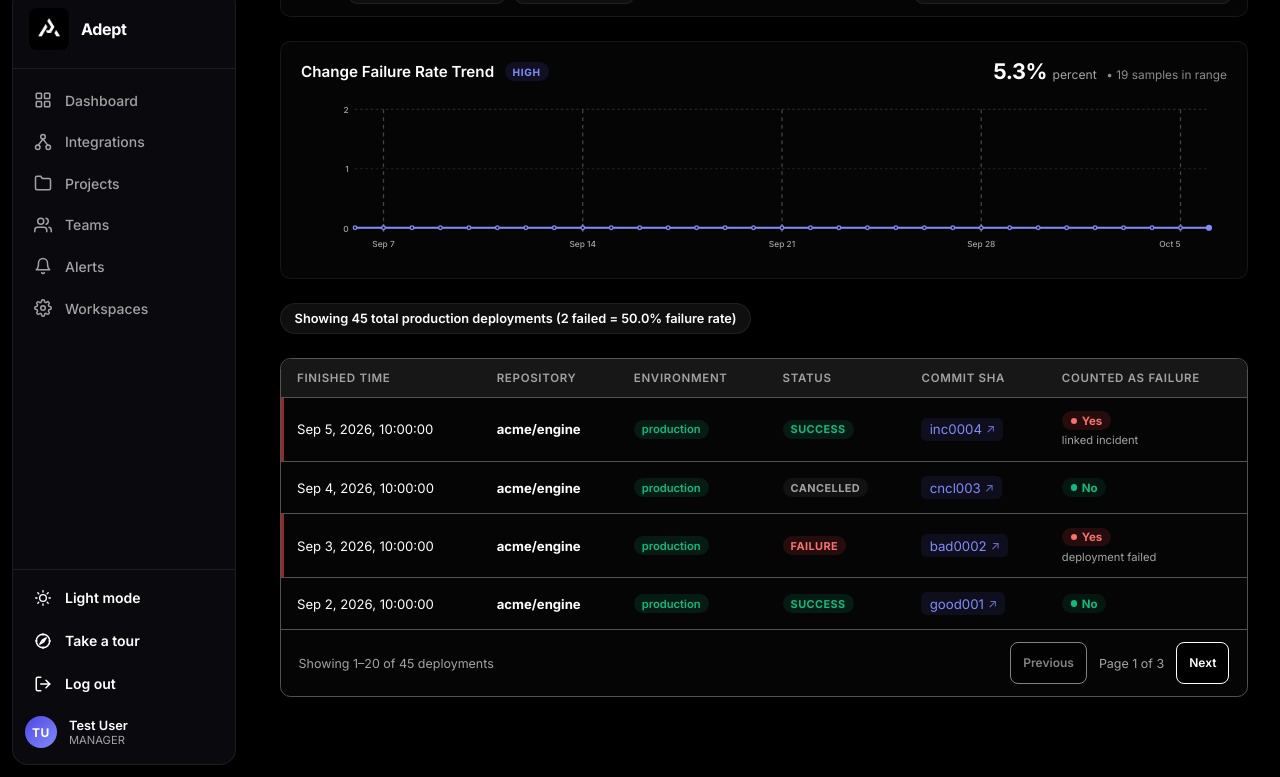
Test: MetricDetailsPage › requests the next page of change failure rate deployments
(page scrolled)
expect the text "Page 1 of 3" is shown: met, box [1099, 656, 1164, 671]
Click the button "Next" at {"x": 1203, "y": 663}, box [1176, 642, 1229, 684]
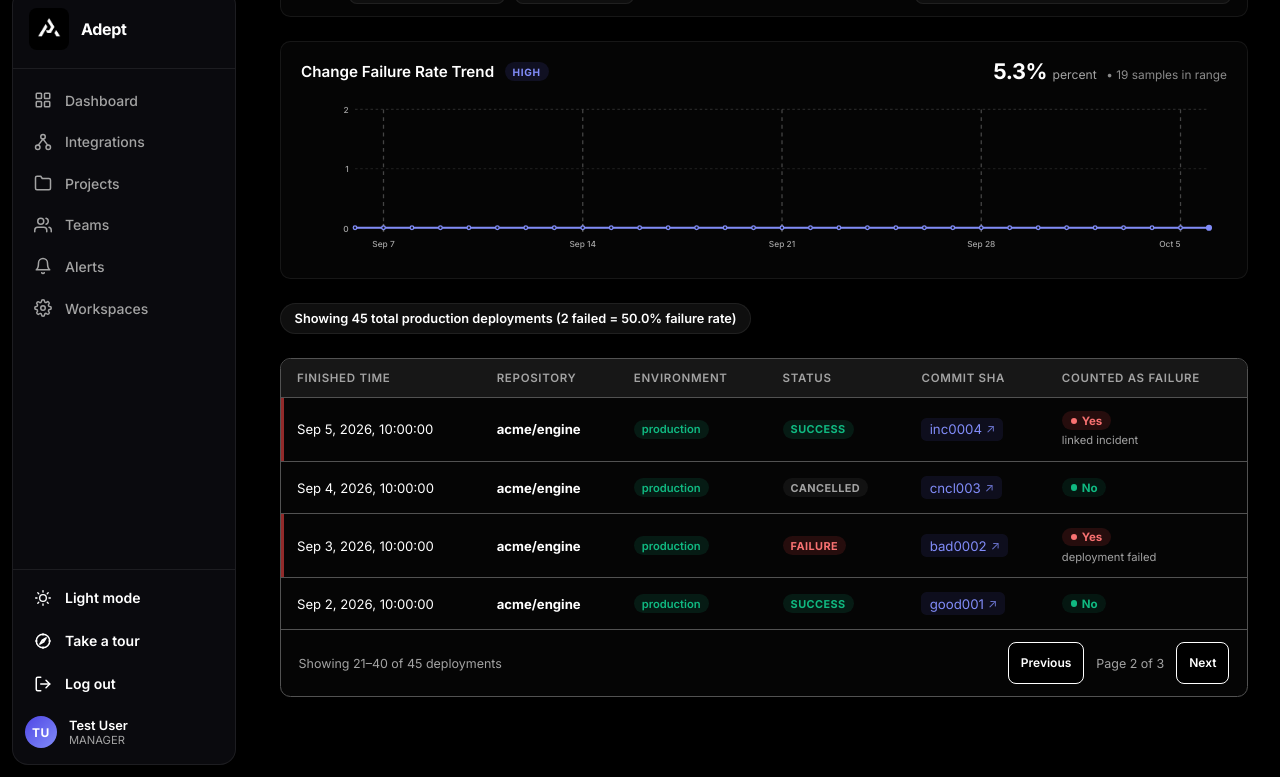
expect the text "Page 2 of 3" is shown: met, box [1096, 656, 1164, 671]
